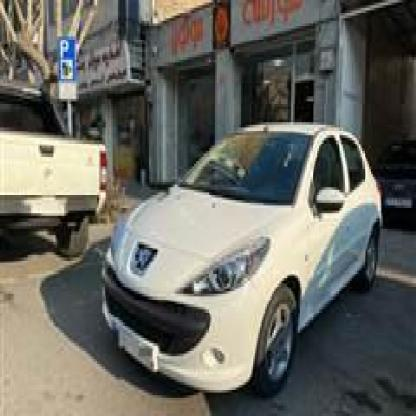Car: (97, 117, 388, 390), (0, 76, 109, 276), (369, 130, 416, 237)
